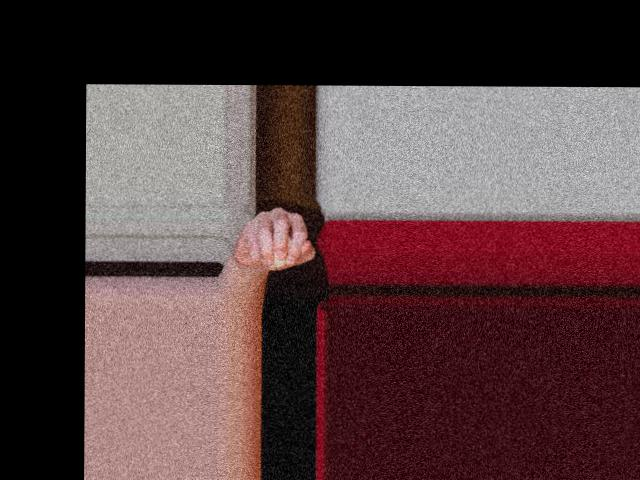egg: (261, 234, 296, 267)
